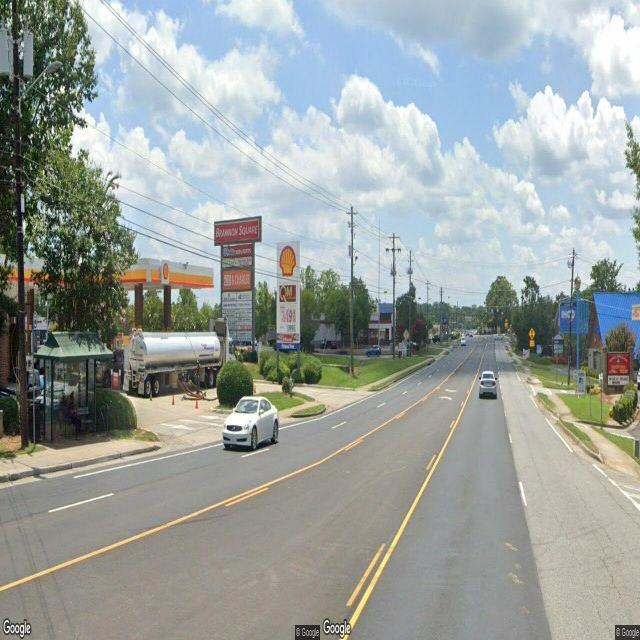seating: (66, 407, 93, 433)
shelter: (36, 331, 114, 444)
